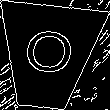O_S: (20, 29, 76, 84)
